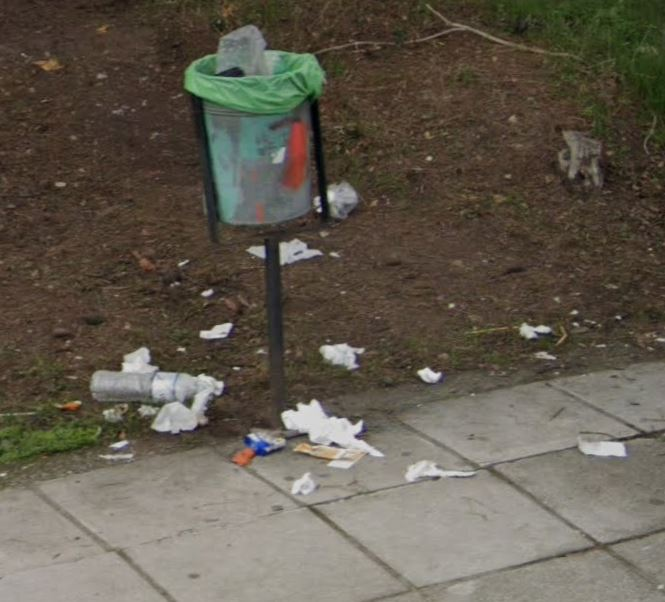trash: (279, 399, 480, 500), (66, 341, 222, 437), (227, 233, 329, 267), (232, 422, 286, 471), (312, 174, 362, 223), (515, 319, 564, 369), (568, 430, 634, 458), (184, 314, 239, 345), (316, 340, 364, 371), (412, 363, 450, 389)
